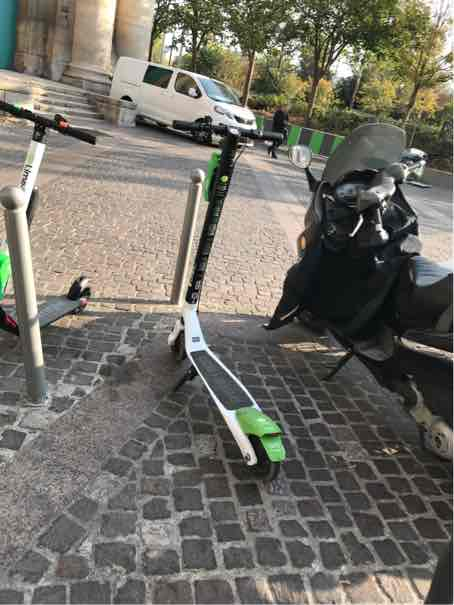scooter: (147, 111, 313, 478)
